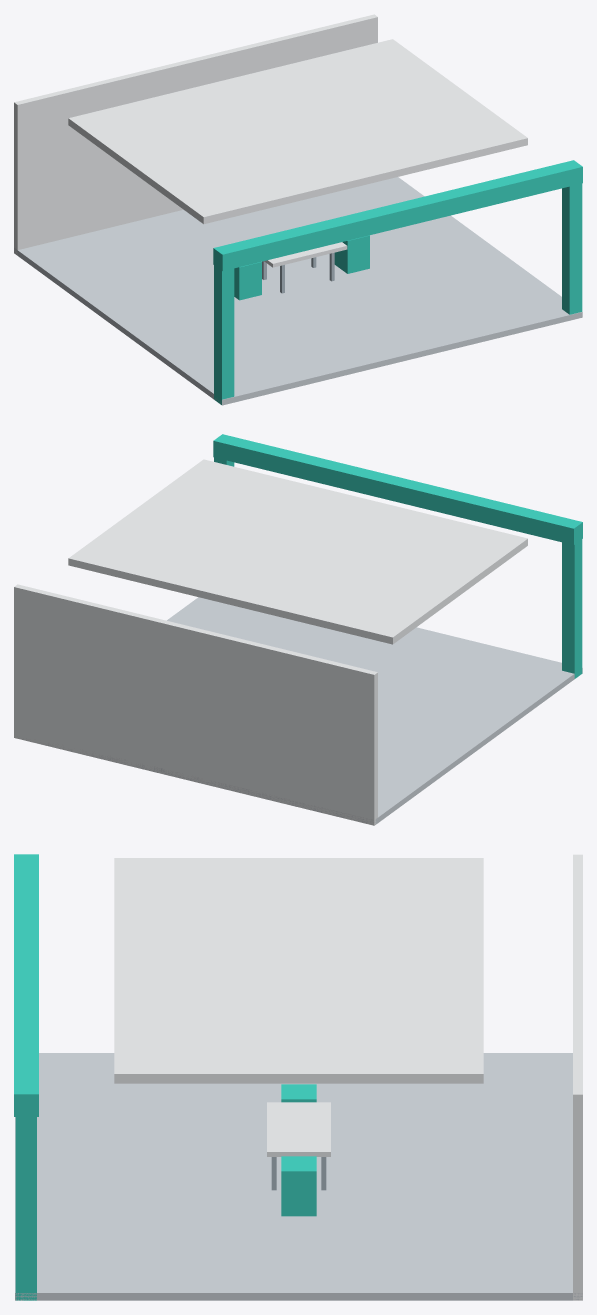
3 renders of one model, top to bottom at view 1: azimuth 30°, elevation 25°; view 2: azimuth 150°, elevation 25°; view 3: azimuth 270°, elevation 25°, orthographic. The views are drawn at different scales.
Visible parts, largest first — view 1: Exhibition Booth Concept; view 2: Exhibition Booth Concept; view 3: Exhibition Booth Concept.
Part boxes in pixels (bbox=[...]): Exhibition Booth Concept: bbox=[14, 14, 582, 405]; Exhibition Booth Concept: bbox=[14, 434, 582, 825]; Exhibition Booth Concept: bbox=[14, 854, 582, 1300].
Size of the model in its own units: 8 by 3.34 by 8.01.
